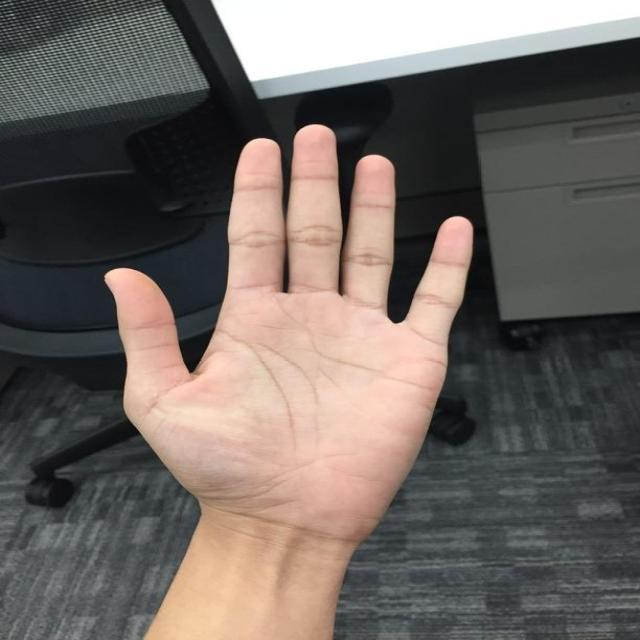hand: (101, 120, 479, 640)
